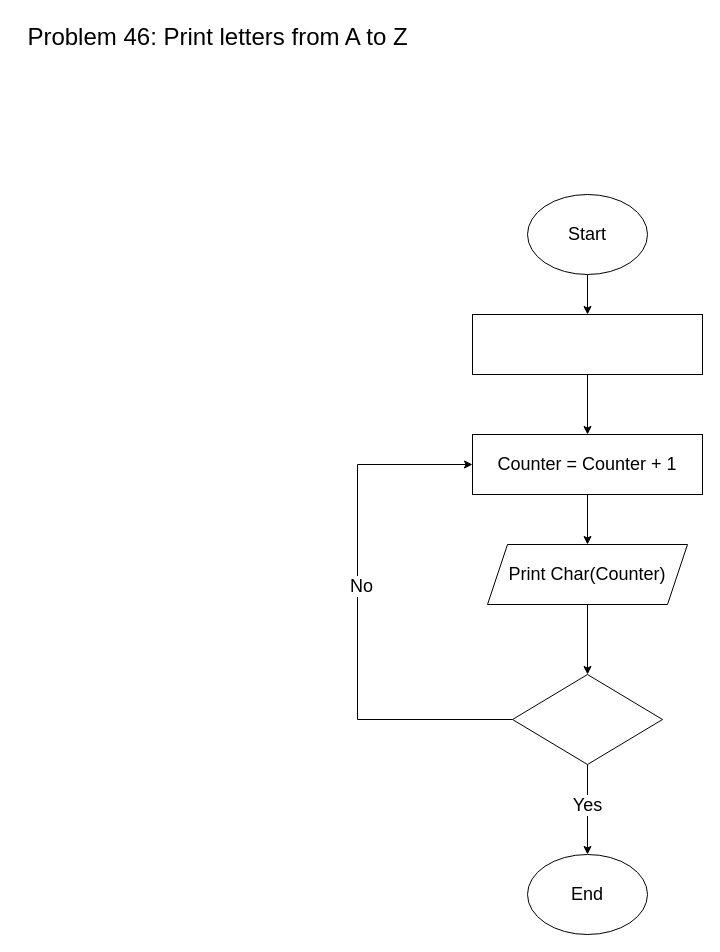
The diagram is 720 pixels wide and 952 high, and some of its shapes have lost their labels. The centre of each missing label's shape, as x and y in pixels:
"Counter = 64" belongs at [587,344].
"Counter = 90" belongs at [587,719].
